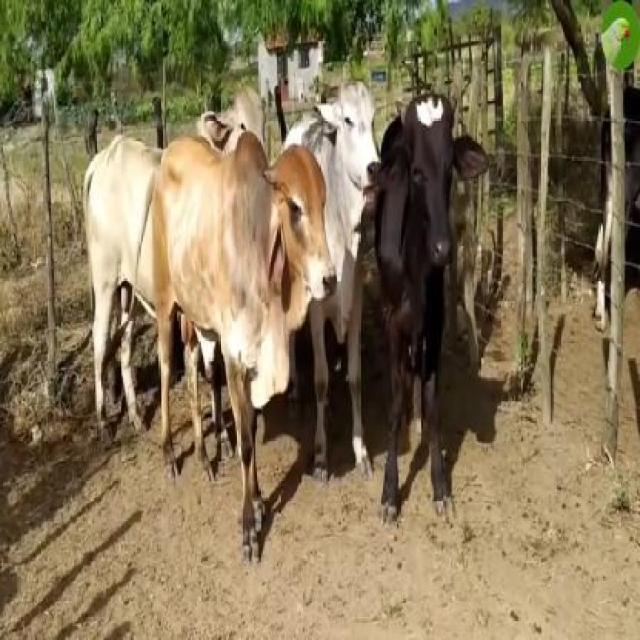Cow: (156, 138, 336, 568), (379, 96, 463, 516), (318, 77, 380, 229)
